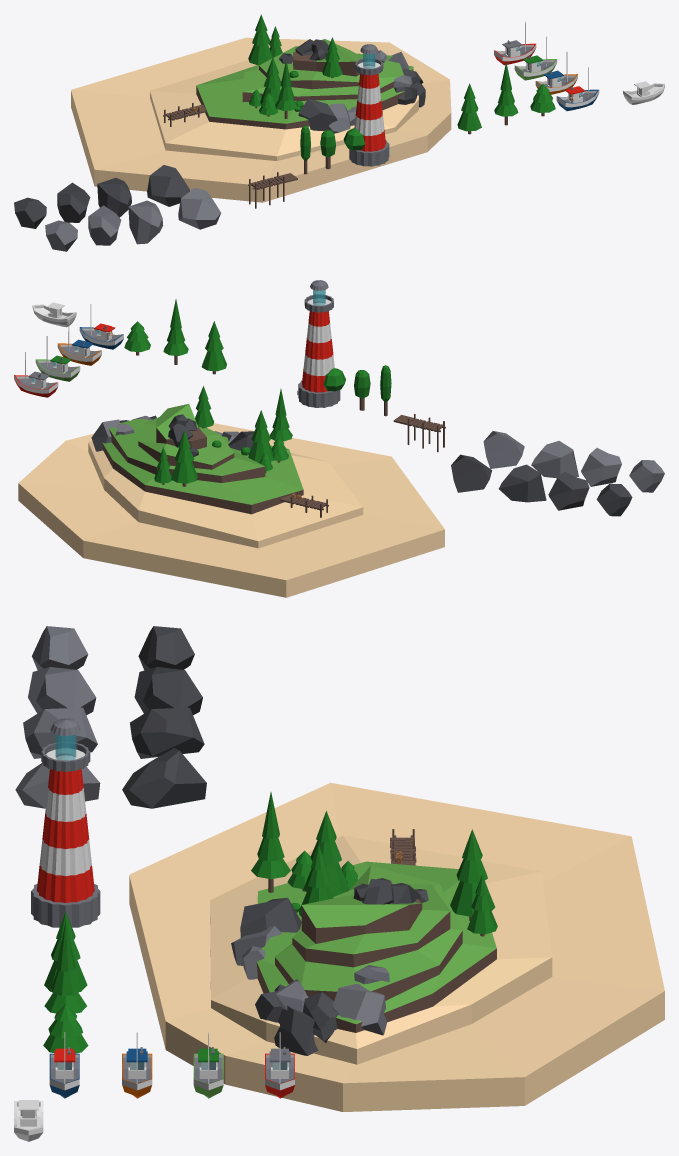
The model's file is LIGHTHOUSE1.fbx.
3 renders of one model, top to bottom at view 1: azimuth 30°, elevation 25°; view 2: azimuth 150°, elevation 25°; view 3: azimuth 270°, elevation 25°, orthographic. The views are drawn at different scales.
Parts seen in each view (by area): view 1: ile2, PHARE ROUGE.002, PHARE ROUGE, caillou1, caillou1.002, caillou2, caillou3, caillou3.005, caillou2.004, caillou4.005, caillou4.006, caillou4 (+18 smaller); view 2: ile2, PHARE ROUGE.002, PHARE ROUGE, caillou2.004, caillou2, caillou1.002, caillou1, caillou3.005, caillou3, sapin1.002, caillou4, caillou4.006 (+14 smaller); view 3: ile2, PHARE ROUGE, PHARE ROUGE.002, caillou1.002, caillou2.004, caillou3.005, caillou3, caillou2, caillou4.006, caillou4, caillou3.001, sapin3.001 (+17 smaller).
Part boxes in pixels (x1,y1,x2,y2): ile2: (71,37,451,202); PHARE ROUGE.002: (349,44,389,166); PHARE ROUGE: (351,44,388,166); caillou1: (178,187,220,229); caillou1.002: (147,165,189,206); caillou2: (128,200,163,244); caillou3: (88,205,121,245); caillou3.005: (57,182,90,222); caillou2.004: (97,177,131,217); caillou4.005: (298,98,337,130); caillou4.006: (14,197,46,228); caillou4: (45,220,77,251); ile2: (18,404,444,597); PHARE ROUGE.002: (298,280,340,407); PHARE ROUGE: (299,280,338,407); caillou2.004: (498,464,546,502); caillou2: (531,441,578,478); caillou1.002: (451,454,492,492); caillou1: (483,431,524,468); caillou3.005: (548,471,589,510); caillou3: (581,448,621,486); sapin1.002: (171,430,197,486); caillou4: (629,460,664,492); caillou4.006: (596,483,632,516); ile2: (129,782,664,1111); PHARE ROUGE: (31,718,100,927); PHARE ROUGE.002: (33,718,97,927); caillou1.002: (122,748,206,808); caillou2.004: (130,707,204,758); caillou3.005: (134,667,202,715); caillou3: (28,667,96,715); caillou2: (23,707,97,758); caillou4.006: (138,626,194,670); caillou4: (32,626,88,670); caillou3.001: (332,983,386,1035); sapin3.001: (44,920,86,1013).
Size of the model in its own units: 3392 by 795 by 1823.
